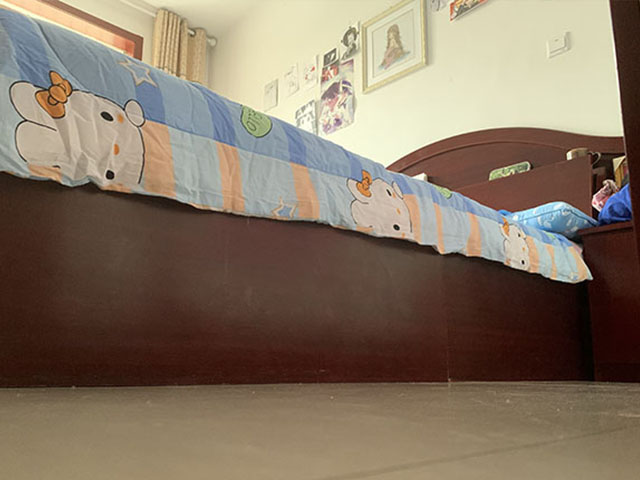bed: (1, 30, 590, 385)
